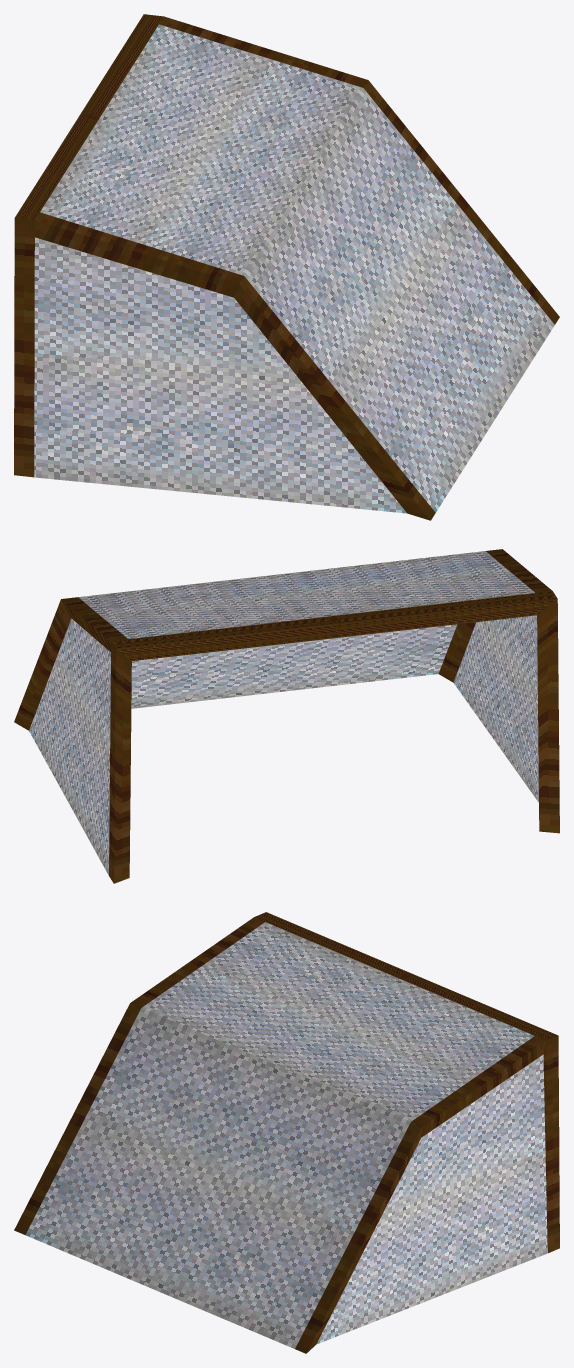
The model's file is netbar.glb.
The picture shows the model from 3 angles, top to bottom: view 1: azimuth 30°, elevation 25°; view 2: azimuth 150°, elevation 25°; view 3: azimuth 270°, elevation 25°; orthographic projection. The views are drawn at different scales.
Parts seen in each view (by area): view 1: netbar; view 2: netbar; view 3: netbar.
Part boxes in pixels (x1,y1,x2,y2): netbar: (14,14,559,520); netbar: (14,549,559,883); netbar: (14,912,559,1353).
Bounding box in the file's own units: 804 × 345 × 804.
Materials: 2 (2 with a texture image).
